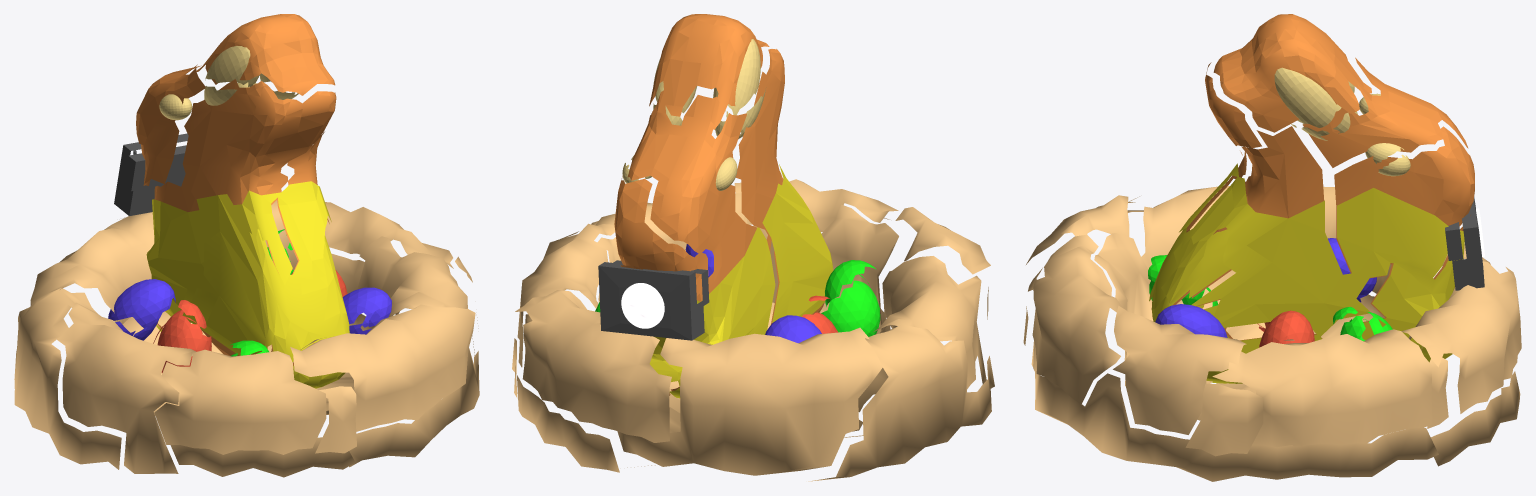
File: spyingEasterBunny-explosion.glb
3 renders of one model, left to right at view 1: azimuth 30°, elevation 25°; view 2: azimuth 150°, elevation 25°; view 3: azimuth 270°, elevation 25°, orthographic. The views are drawn at different scales.
Parts seen in each view (by area): view 1: Building_Easter_Bunny.014, Building_Easter_Bunny.060, Building_Easter_Bunny.043, Building_Easter_Bunny.015, Building_Easter_Bunny.004, Building_Easter_Bunny.020, Building_Easter_Bunny.019, Building_Easter_Bunny.045, Building_Easter_Bunny.046, Building_Easter_Bunny.027, Building_Easter_Bunny.054, Building_Easter_Bunny.009 (+18 smaller); view 2: Building_Easter_Bunny.019, Building_Easter_Bunny.010, Building_Easter_Bunny.020, Building_Easter_Bunny.009, Building_Easter_Bunny.015, Building_Easter_Bunny.045, Building_Easter_Bunny.014, Building_Easter_Bunny.076, Building_Easter_Bunny.027, Building_Easter_Bunny.004, Building_Easter_Bunny.017, Building_Easter_Bunny.058 (+14 smaller); view 3: Building_Easter_Bunny.017, Building_Easter_Bunny.051, Building_Easter_Bunny.054, Building_Easter_Bunny.043, Building_Easter_Bunny.046, Building_Easter_Bunny.010, Building_Easter_Bunny.045, Building_Easter_Bunny.065, Building_Easter_Bunny.058, Building_Easter_Bunny.009, Building_Easter_Bunny.022, Building_Easter_Bunny.040 (+16 smaller).
Part boxes in pixels (x1,y1,x2,y2): Building_Easter_Bunny.014: (189, 194, 349, 361); Building_Easter_Bunny.060: (154, 349, 326, 454); Building_Easter_Bunny.043: (290, 304, 475, 431); Building_Easter_Bunny.015: (57, 302, 196, 473); Building_Easter_Bunny.004: (182, 79, 336, 272); Building_Easter_Bunny.020: (14, 288, 121, 469); Building_Easter_Bunny.019: (30, 212, 154, 324); Building_Easter_Bunny.045: (196, 14, 335, 95); Building_Easter_Bunny.046: (357, 236, 467, 317); Building_Easter_Bunny.027: (146, 199, 204, 323); Building_Easter_Bunny.054: (349, 335, 479, 467); Building_Easter_Bunny.009: (136, 64, 205, 183); Building_Easter_Bunny.019: (617, 327, 882, 475); Building_Easter_Bunny.010: (515, 290, 671, 442); Building_Easter_Bunny.020: (808, 324, 994, 481); Building_Easter_Bunny.009: (627, 90, 746, 280); Building_Easter_Bunny.015: (858, 256, 986, 412); Building_Easter_Bunny.045: (649, 14, 769, 129); Building_Easter_Bunny.014: (762, 183, 833, 322); Building_Easter_Bunny.076: (598, 262, 704, 340); Building_Easter_Bunny.027: (669, 227, 775, 398); Building_Easter_Bunny.004: (735, 49, 784, 240); Building_Easter_Bunny.017: (517, 221, 615, 367); Building_Easter_Bunny.058: (614, 175, 708, 296); Building_Easter_Bunny.017: (1212, 329, 1432, 447); Building_Easter_Bunny.051: (1180, 177, 1374, 337); Building_Easter_Bunny.054: (1033, 342, 1438, 481); Building_Easter_Bunny.043: (1032, 234, 1122, 404); Building_Easter_Bunny.046: (1113, 305, 1294, 434); Building_Easter_Bunny.010: (1401, 261, 1521, 413); Building_Easter_Bunny.045: (1213, 14, 1371, 132); Building_Easter_Bunny.065: (1337, 188, 1448, 277); Building_Easter_Bunny.058: (1334, 126, 1474, 278); Building_Easter_Bunny.009: (1302, 57, 1468, 167); Building_Easter_Bunny.022: (1196, 126, 1324, 306); Building_Easter_Bunny.040: (1361, 230, 1464, 362).
Bounding box in the file's own units: 7.43 × 6.33 × 7.38.
